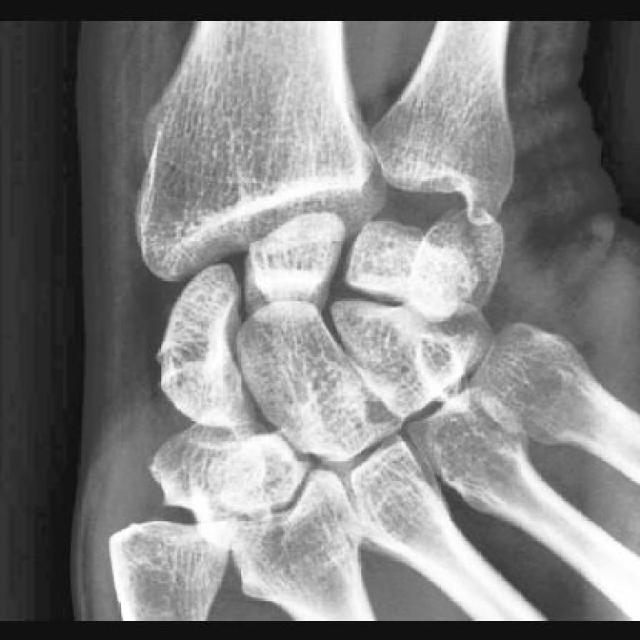Fracture: (443, 206, 508, 323)
